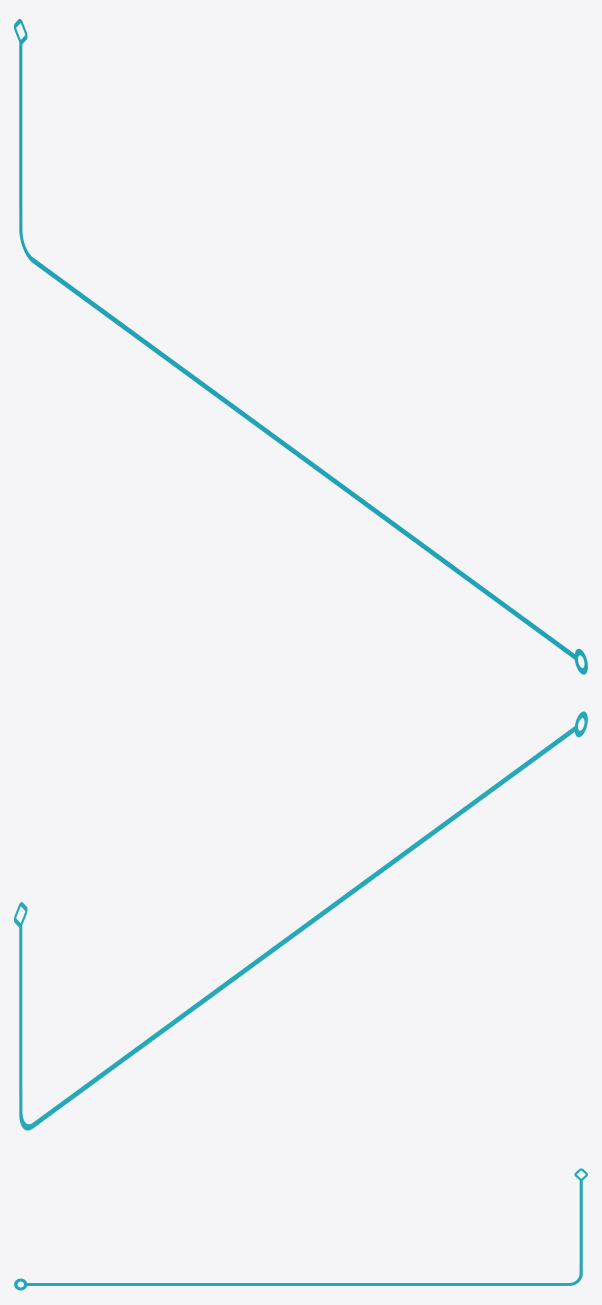
Rendered from 5_1_cl_inactive.glb.
3 views of the same model, one above another, from view 1: azimuth 30°, elevation 25°; view 2: azimuth 150°, elevation 25°; view 3: azimuth 270°, elevation 25° (orthographic). The views are drawn at different scales.
Visible parts, largest first — view 1: 5_1_cl_inactive; view 2: 5_1_cl_inactive; view 3: 5_1_cl_inactive.
Part boxes in pixels (x1,y1,x2,y2): 5_1_cl_inactive: (14, 18, 587, 674); 5_1_cl_inactive: (14, 711, 587, 1130); 5_1_cl_inactive: (14, 1168, 587, 1290).
Size of the model in its own units: 4.06e-06 by 3.28 by 13.96.
Materials: 1 (1 with a texture image).
